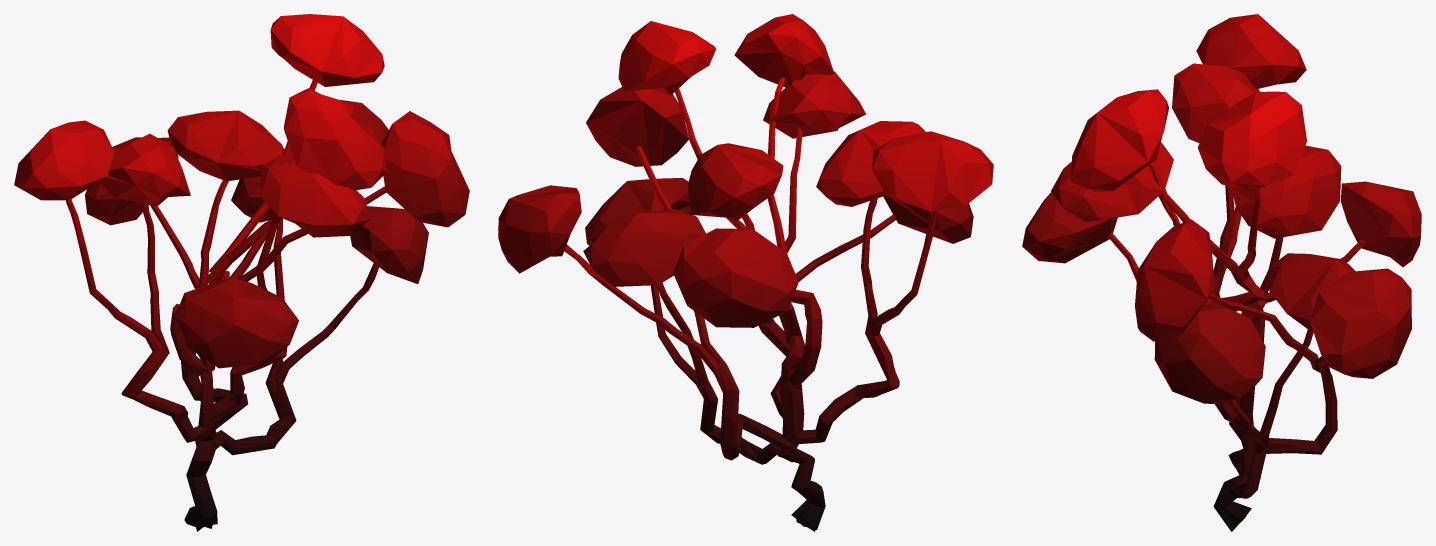
File: TreeHiatus05.fbx
3 renders of one model, left to right at view 1: azimuth 30°, elevation 25°; view 2: azimuth 150°, elevation 25°; view 3: azimuth 270°, elevation 25°, orthographic. The views are drawn at different scales.
Visible parts, largest first — view 1: TreeHiatus05_LOD0; view 2: TreeHiatus05_LOD0; view 3: TreeHiatus05_LOD0.
Part boxes in pixels (x1=…): TreeHiatus05_LOD0: x1=14, y1=14, x2=469, y2=531; TreeHiatus05_LOD0: x1=498, y1=14, x2=993, y2=531; TreeHiatus05_LOD0: x1=1022, y1=14, x2=1421, y2=531.
Size of what is drawn, in the model's own units: 1856 by 1963 by 1446.
